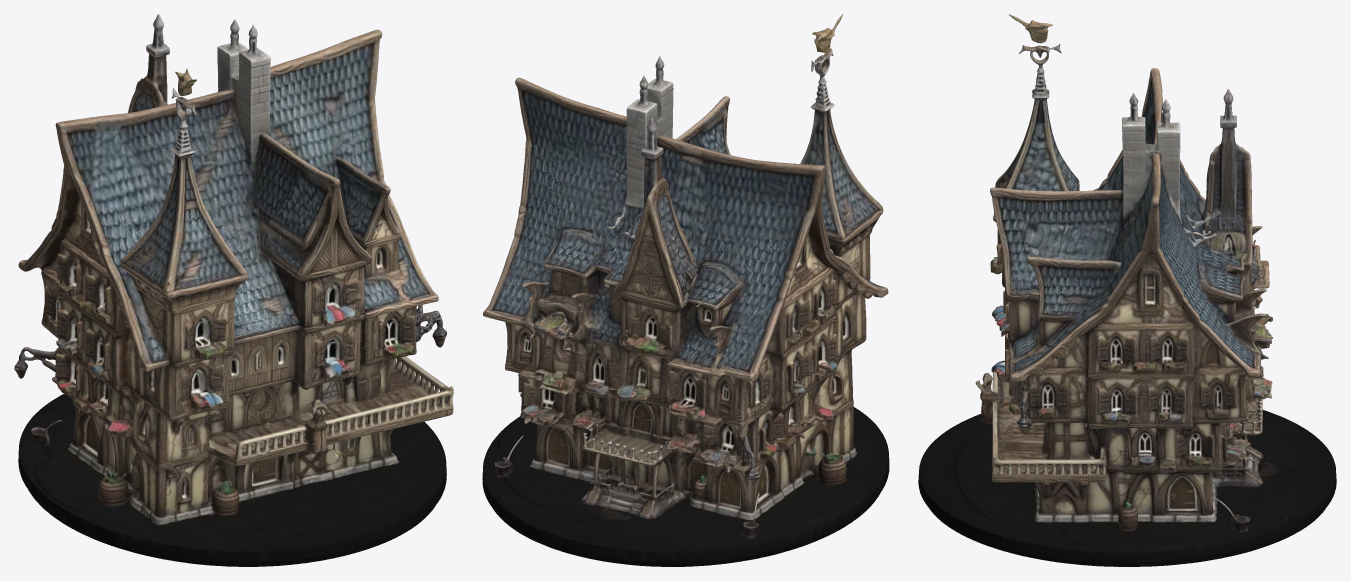
File: rotelaterne.glb
3 views of the same model, side by side, from view 1: azimuth 30°, elevation 25°; view 2: azimuth 150°, elevation 25°; view 3: azimuth 270°, elevation 25° (orthographic). The views are drawn at different scales.
Bounding box in the file's own units: 1.54 × 1.9 × 1.68.
Materials: 1 (1 with a texture image).
